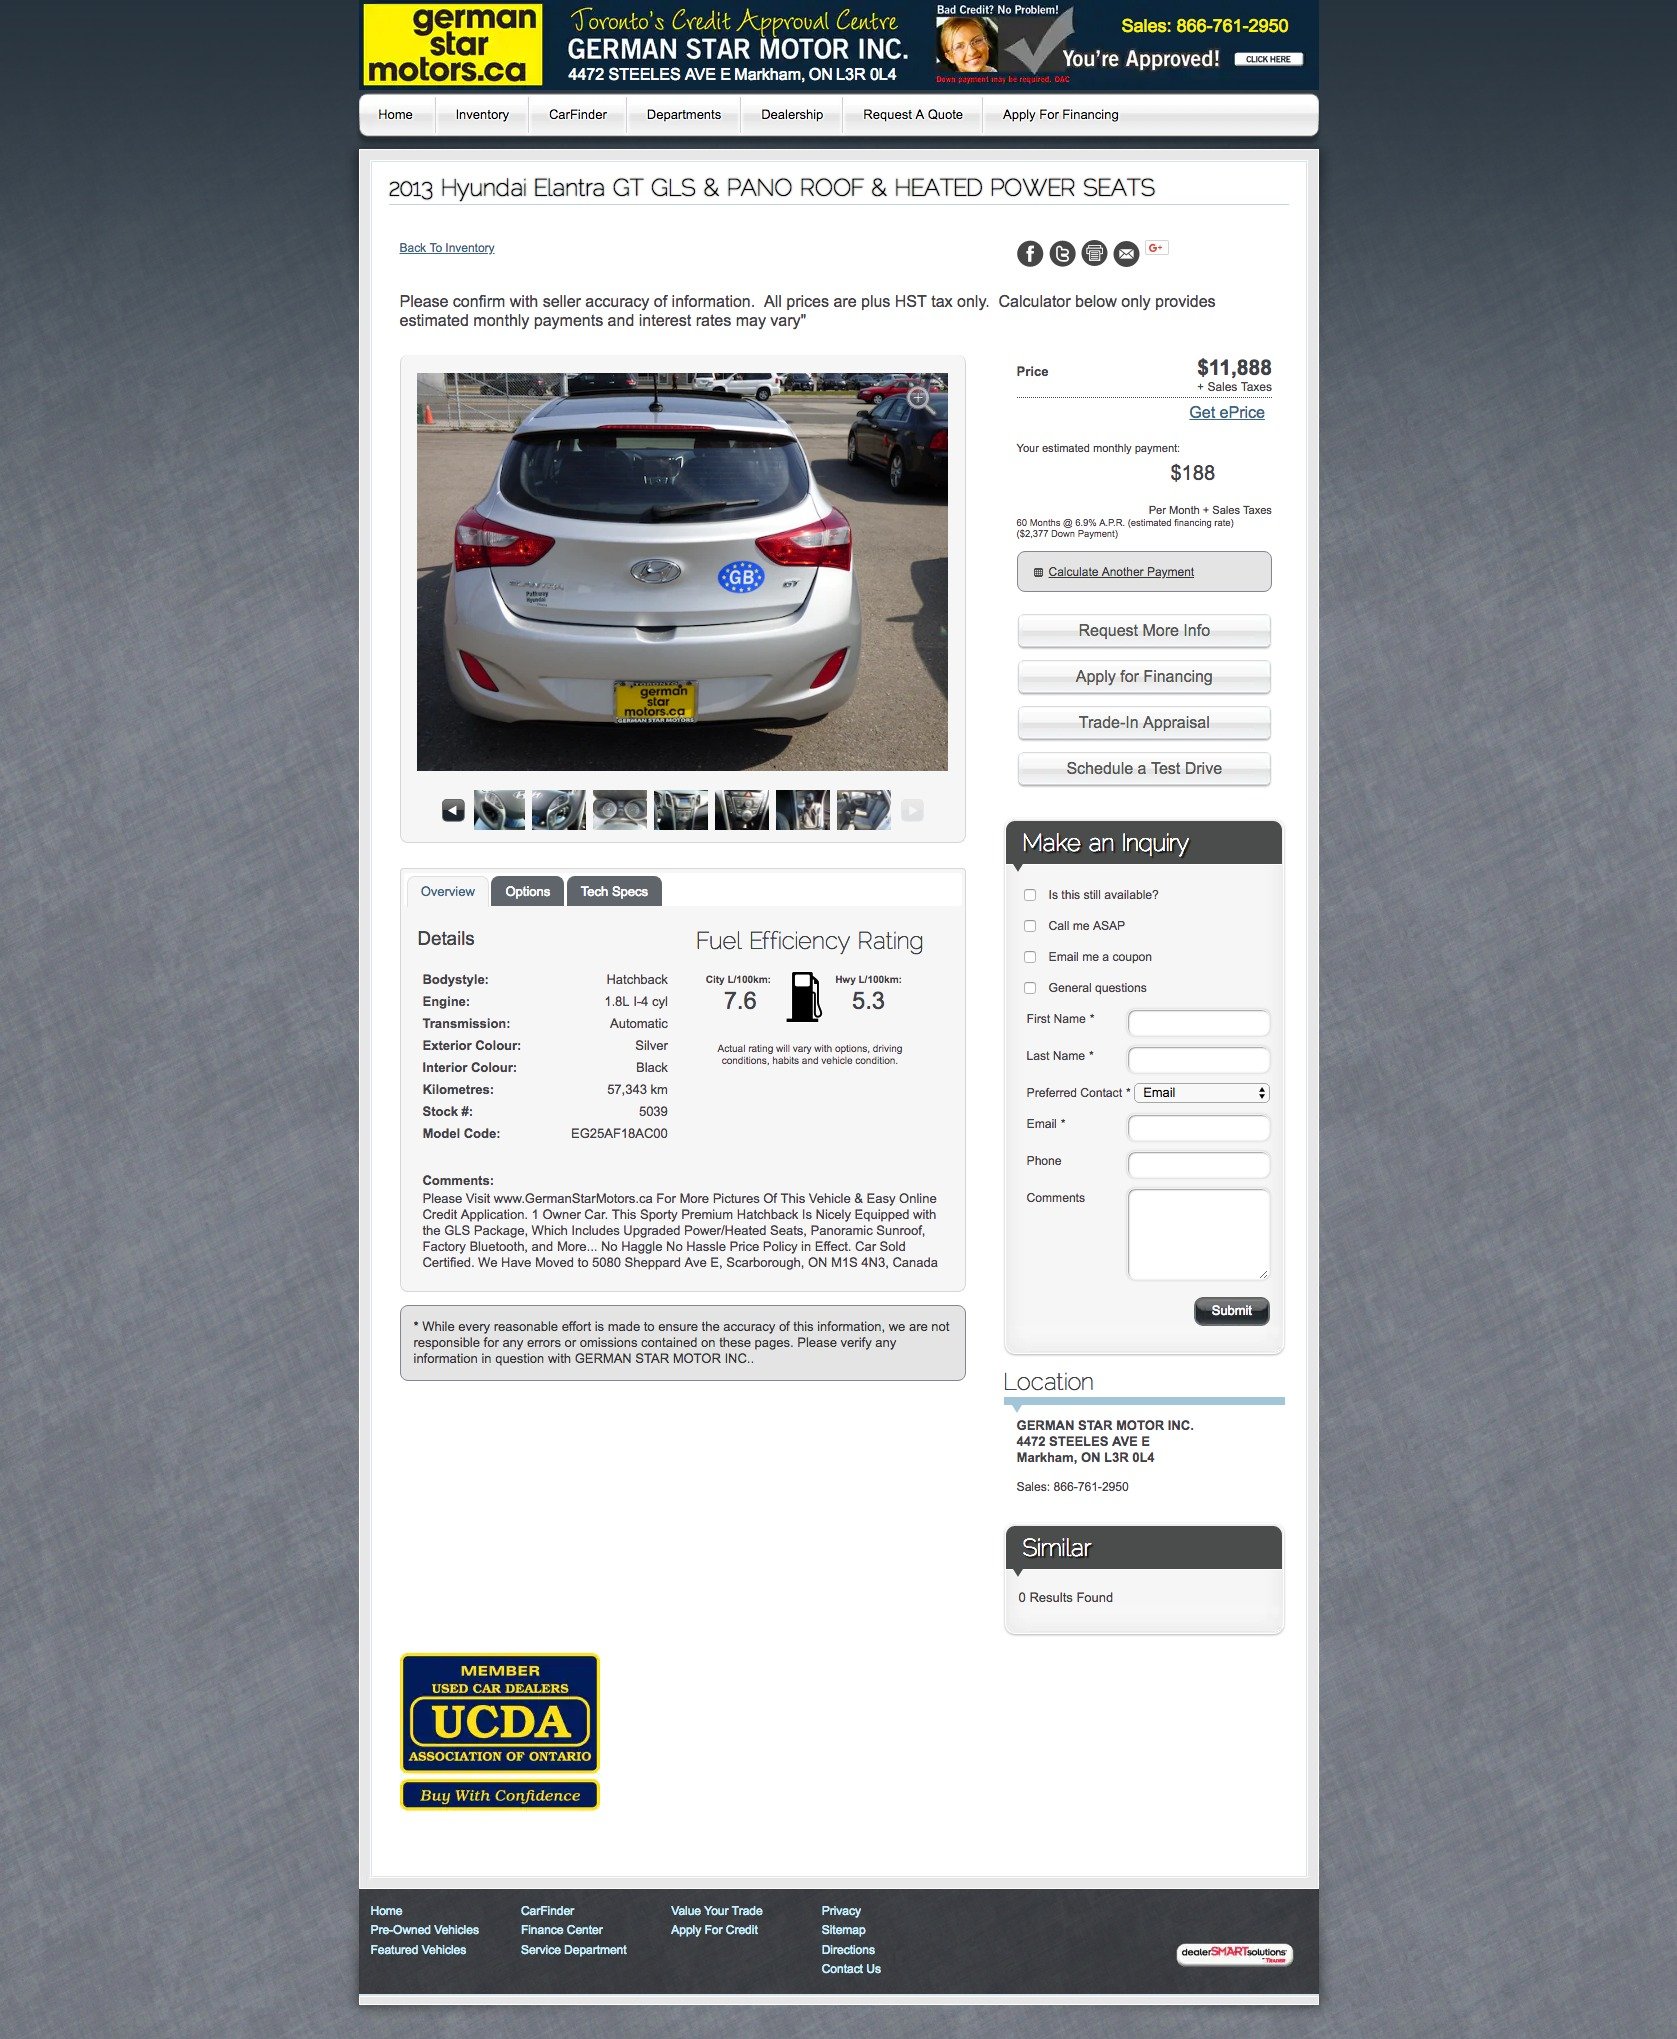car: (901, 799, 925, 823)
